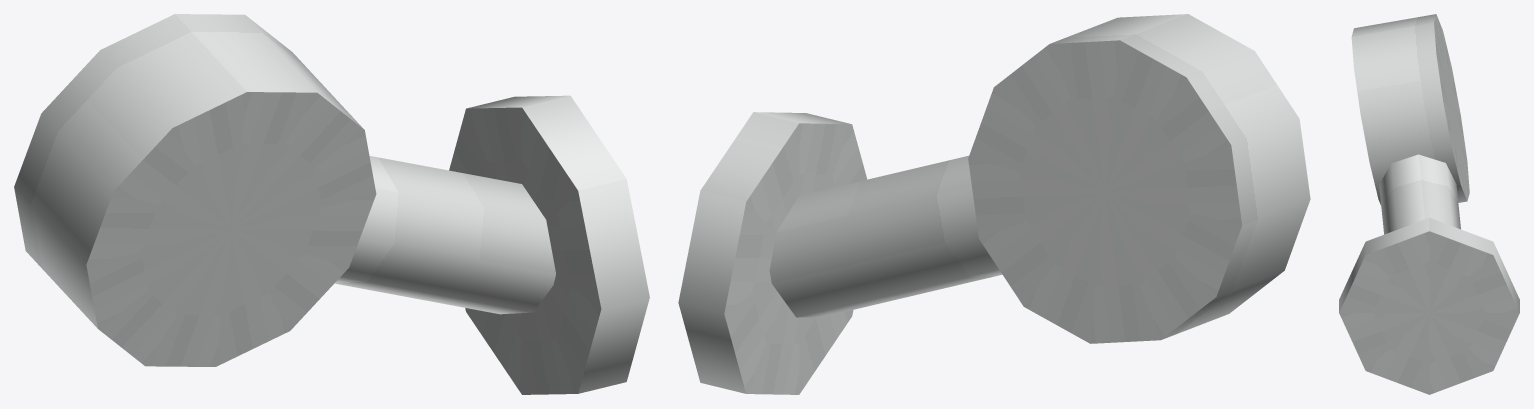
File: nycsignalarm_stub_51.obj
3 renders of one model, left to right at view 1: azimuth 30°, elevation 25°; view 2: azimuth 150°, elevation 25°; view 3: azimuth 270°, elevation 25°, orthographic. The views are drawn at different scales.
Visible parts, largest first — view 1: nycsignalarm_stub_51; view 2: nycsignalarm_stub_51; view 3: nycsignalarm_stub_51.
Boxes of the visible parts, <box> form: nycsignalarm_stub_51: <box>14,14,649,394</box>; nycsignalarm_stub_51: <box>678,14,1310,394</box>; nycsignalarm_stub_51: <box>1339,14,1519,394</box>.
Bounding box in the file's own units: 0.6842 × 0.5624 × 0.35.
